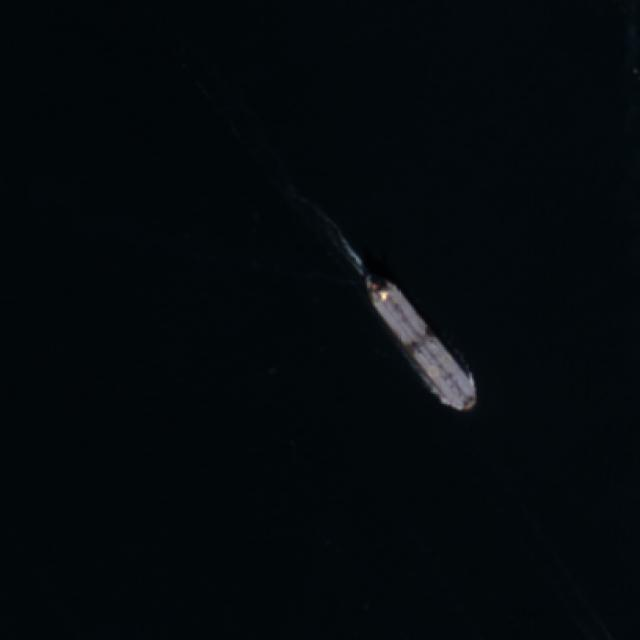Cargo: (350, 262, 486, 420)
